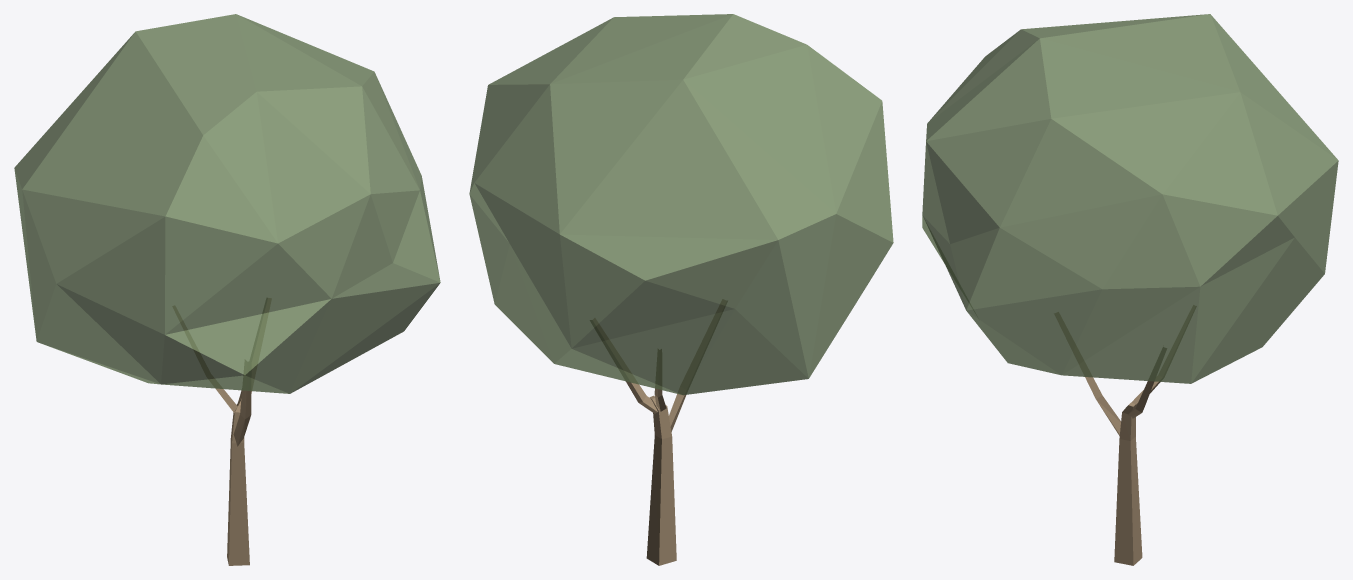
The model's file is tree_typ1_col2.glb.
3 renders of one model, left to right at view 1: azimuth 30°, elevation 25°; view 2: azimuth 150°, elevation 25°; view 3: azimuth 270°, elevation 25°, orthographic. The views are drawn at different scales.
Bounding box in the file's own units: 23.27 × 30.55 × 22.35.
